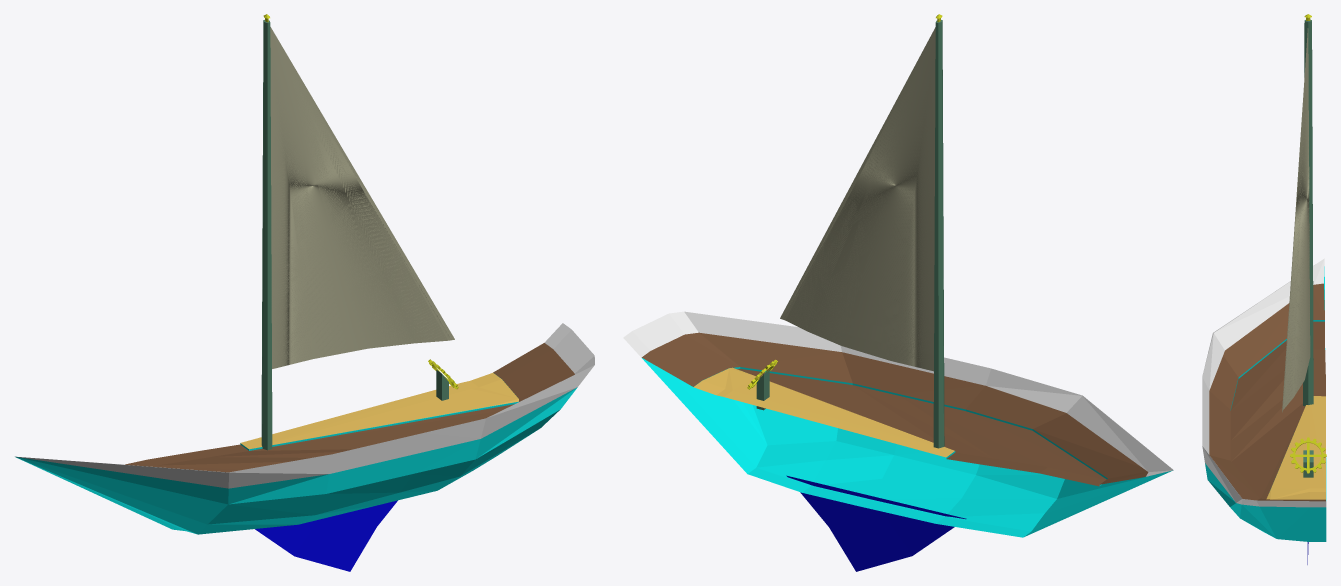
Rendered from Sailboat_Art.fbx.
3 views of the same model, side by side, from view 1: azimuth 30°, elevation 25°; view 2: azimuth 150°, elevation 25°; view 3: azimuth 270°, elevation 25° (orthographic). The views are drawn at different scales.
Visible parts, largest first — view 1: pCone2, pCone1, pPyramid1, pCylinder1; view 2: pCone2, pCone1, pPyramid1, pCylinder1; view 3: pCone2, pCone1, pCylinder1, pGear2, pCube1.
Part boxes in pixels (x1,y1,x2,y2): pCone2: (15,323,594,534); pCone1: (270,27,454,368); pPyramid1: (255,500,397,571); pCylinder1: (261,14,272,450); pCone2: (623,311,1173,537); pCone1: (780,27,935,371); pPyramid1: (786,475,966,571); pCylinder1: (933,14,944,448); pCone2: (1202,258,1326,541); pCone1: (1282,28,1310,412); pCylinder1: (1303,14,1313,406); pGear2: (1290,437,1326,473); pCube1: (1303,450,1313,477).
Size of the model in its own units: 11.81 by 11.87 by 2.57.
